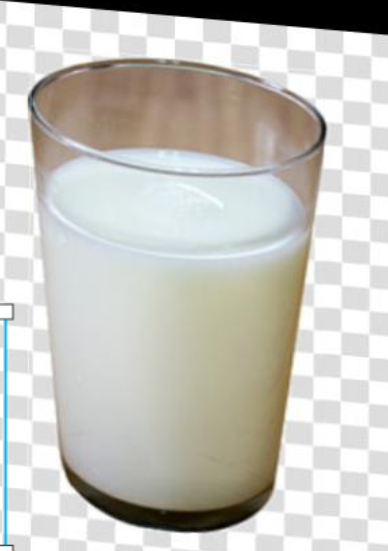produk_susu: (36, 75, 309, 518)
